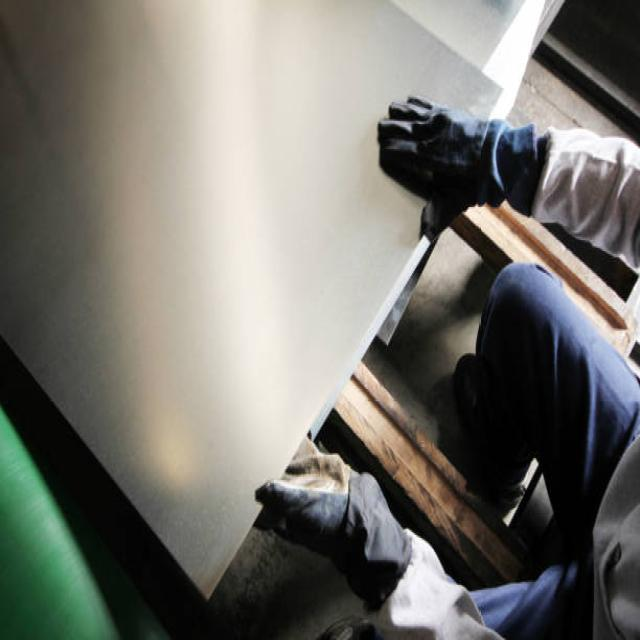gloves: (257, 439, 411, 607), (378, 96, 549, 238)
